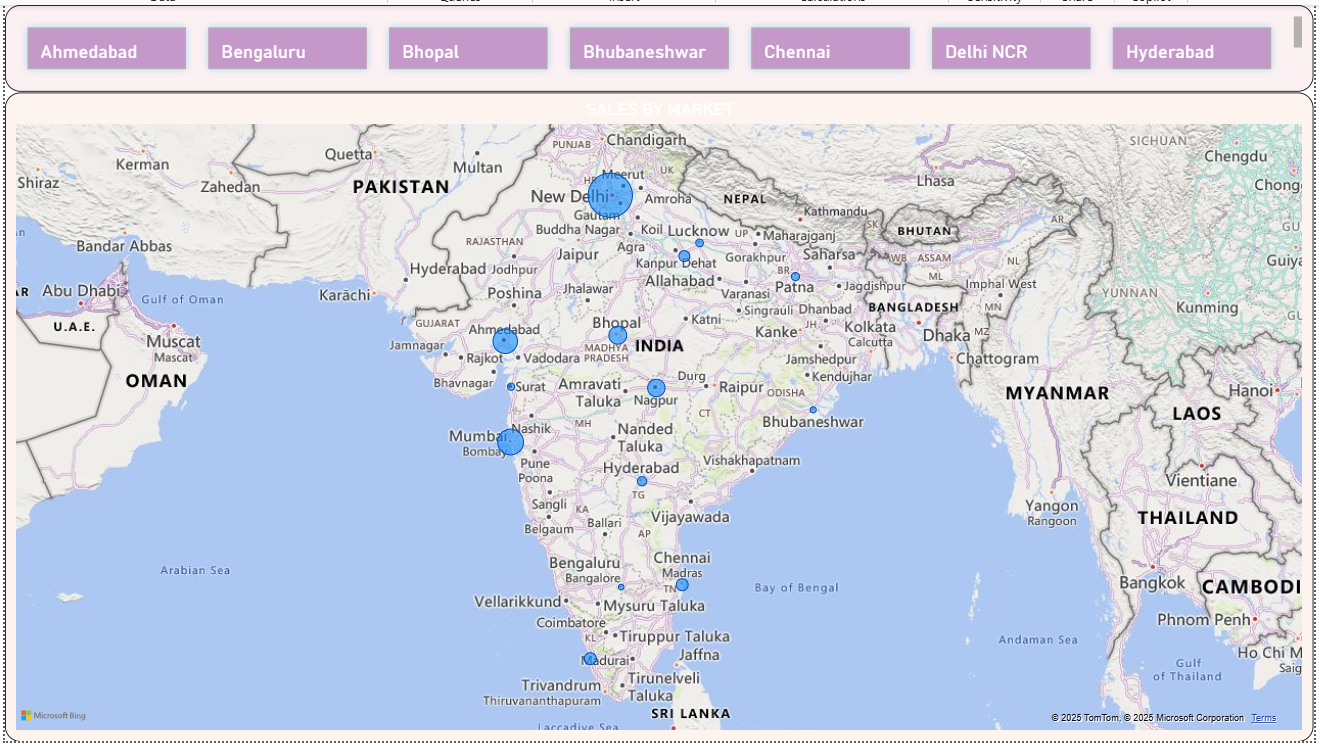

Layout of this report page (visuals, bound fields, positions):
{"tool":"powerbi","page":{"name":"Sales Map","canvas":[1280,720],"ordinal":1},"visuals":[{"type":"map","title":"SALES BY MARKET","fields":{"Size":["Sum(transactions_all.sales_amount)"],"Category":["transactions_all.market_name"]},"box":[0,85,1280,635],"z":0},{"type":"advancedSlicerVisual","fields":{"Values":["transactions_all.market_name"]},"box":[0,0,1280,85],"z":1000}]}

Visuals, with their boxes in screenshot pixels (x1, y1, x2, y2):
"SALES BY MARKET" map: 0,86,1301,732
advancedSlicerVisual - transactions_all.market_name: 0,0,1301,86
